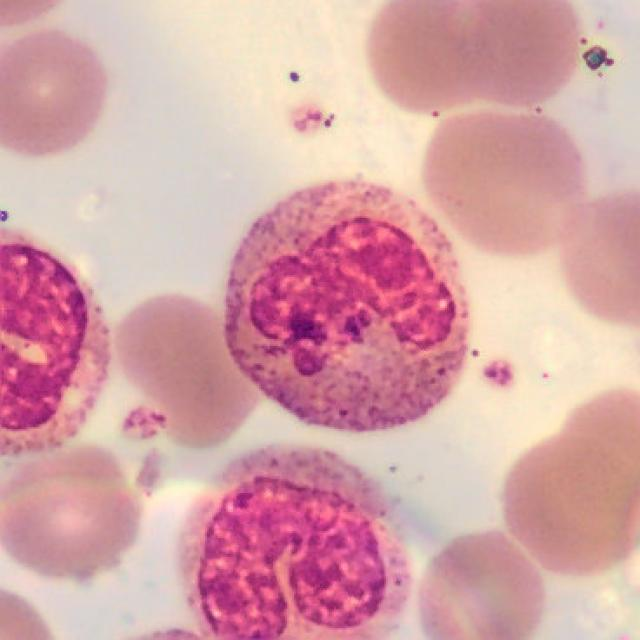Bastonete: (224, 182, 471, 434), (191, 451, 412, 640)
